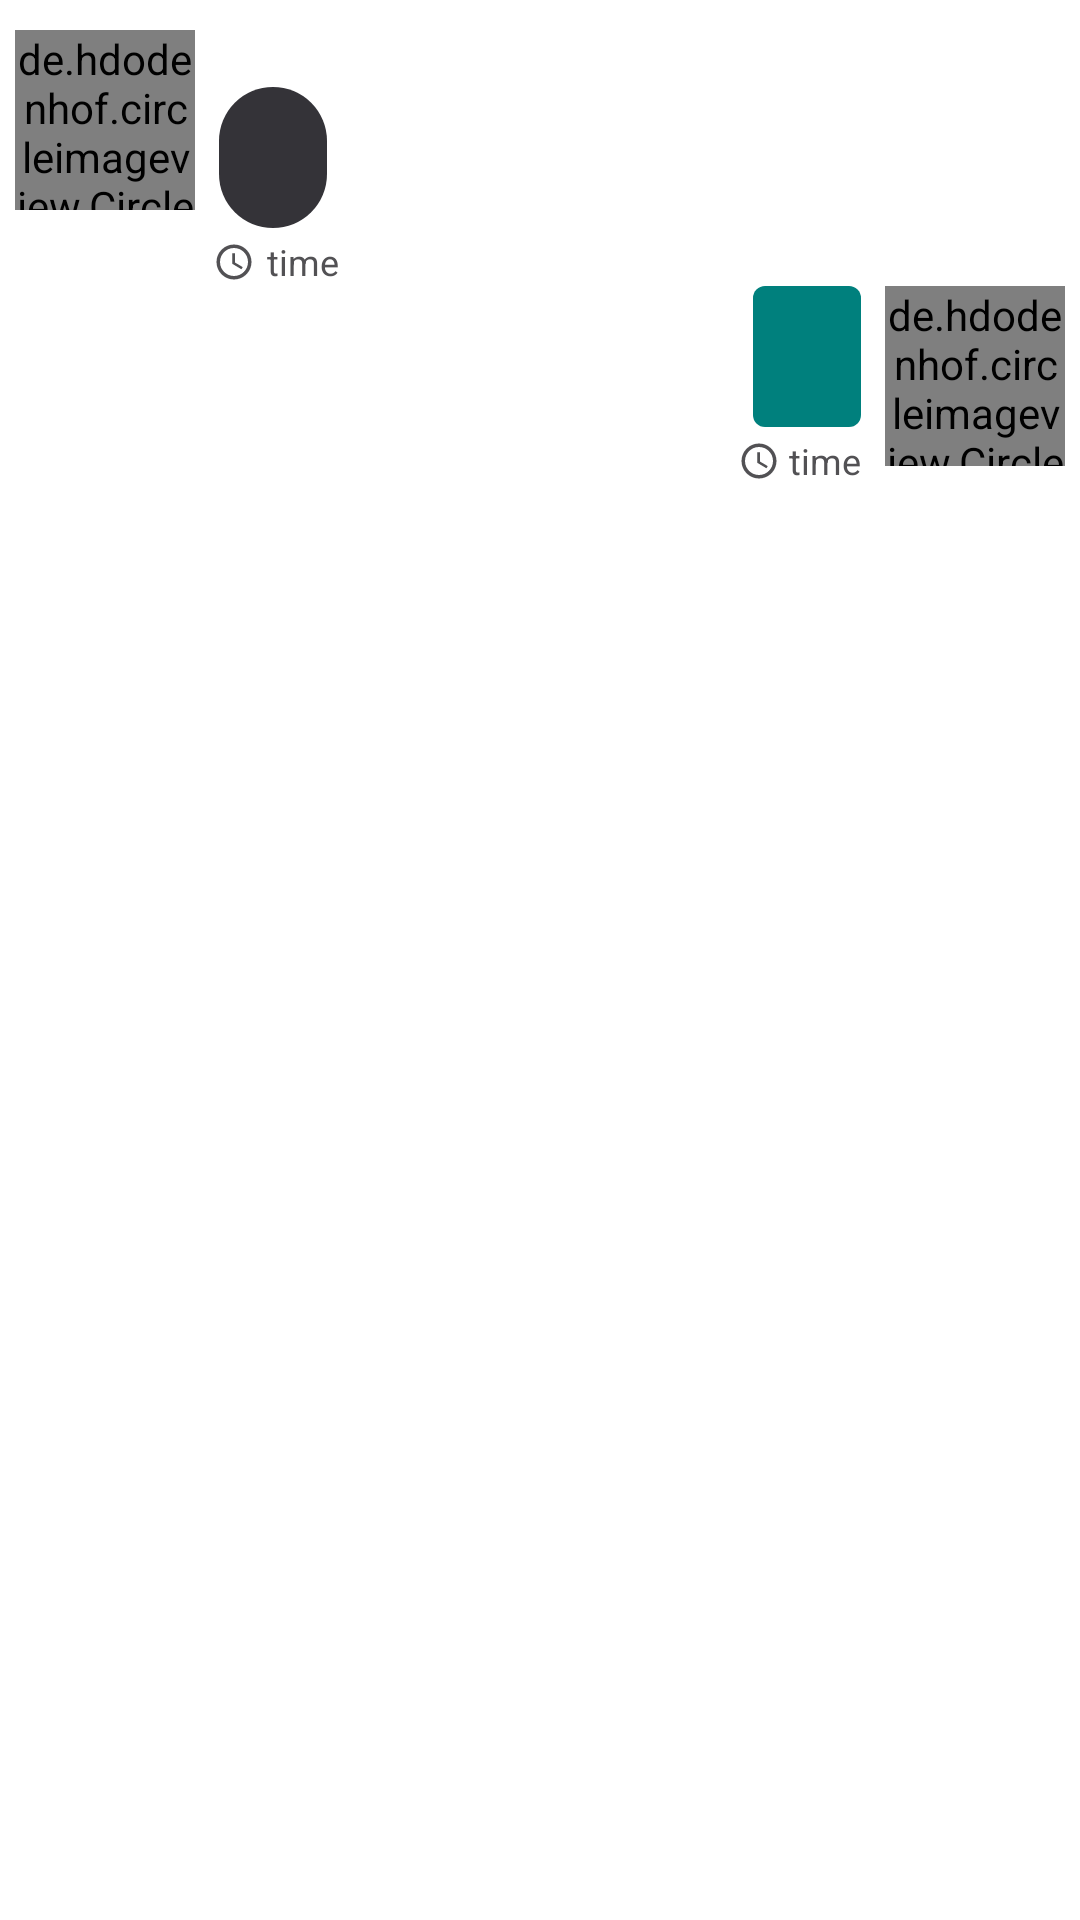

Where to tap for icons on this 1080 x 1920 app screen, as (x=x, y=y):
clock: (x=234, y=262), (x=759, y=461)
